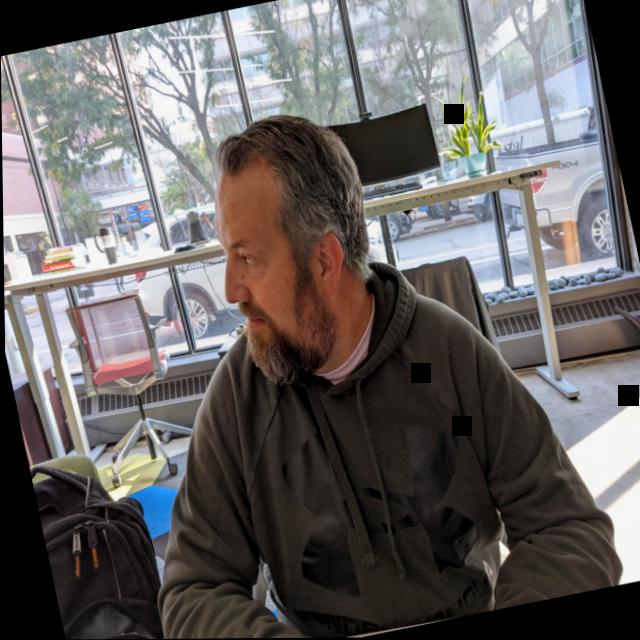NO-Mask: (201, 171, 349, 397)
